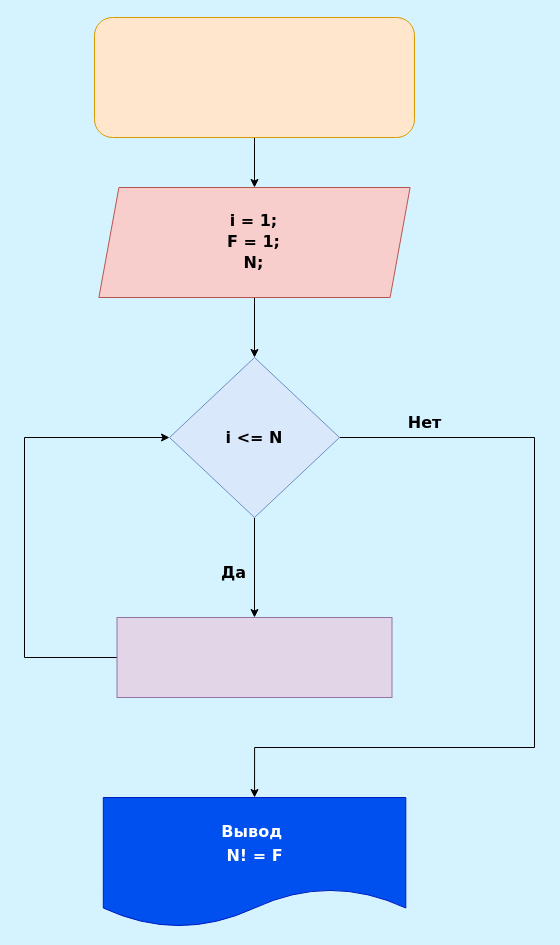
This 560x945 diagram has some shape labels left out. The box of each missing label's shape, as (x1, y1, x2, y2) in pixels:
F = F * i; i = i + 1;: (116, 616, 392, 698)
Вычисление факториала N!: (94, 16, 414, 138)
